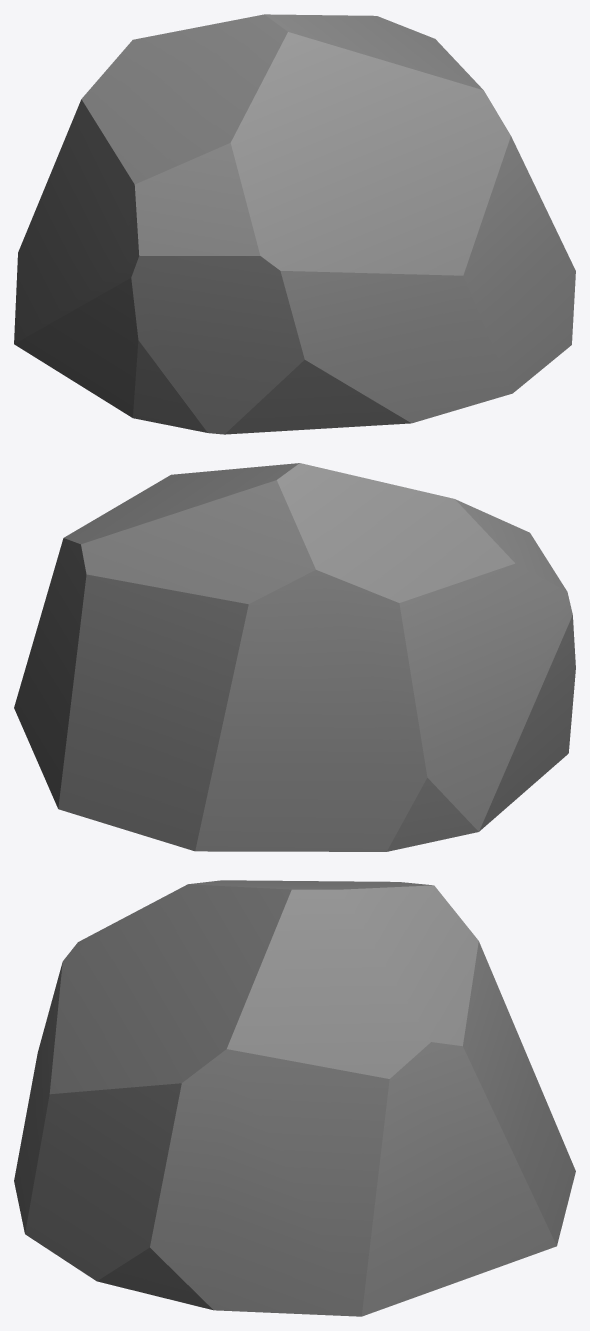
Rendered from stone small 4.fbx.
The picture shows the model from 3 angles, top to bottom: view 1: azimuth 30°, elevation 25°; view 2: azimuth 150°, elevation 25°; view 3: azimuth 270°, elevation 25°; orthographic projection. The views are drawn at different scales.
Parts seen in each view (by area): view 1: stone small 4; view 2: stone small 4; view 3: stone small 4.
Part boxes in pixels (x1=…): stone small 4: x1=14, y1=14, x2=575, y2=434; stone small 4: x1=14, y1=463, x2=575, y2=851; stone small 4: x1=14, y1=880, x2=575, y2=1316.
Bounding box in the file's own units: 133 × 75.66 × 130.
